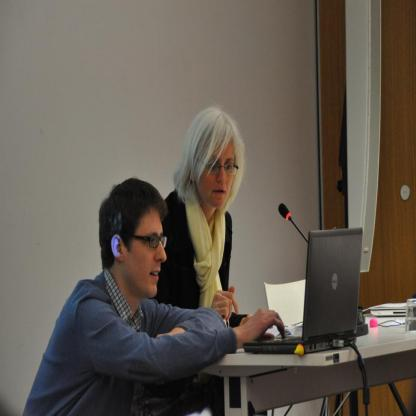board: (242, 228, 364, 355)
